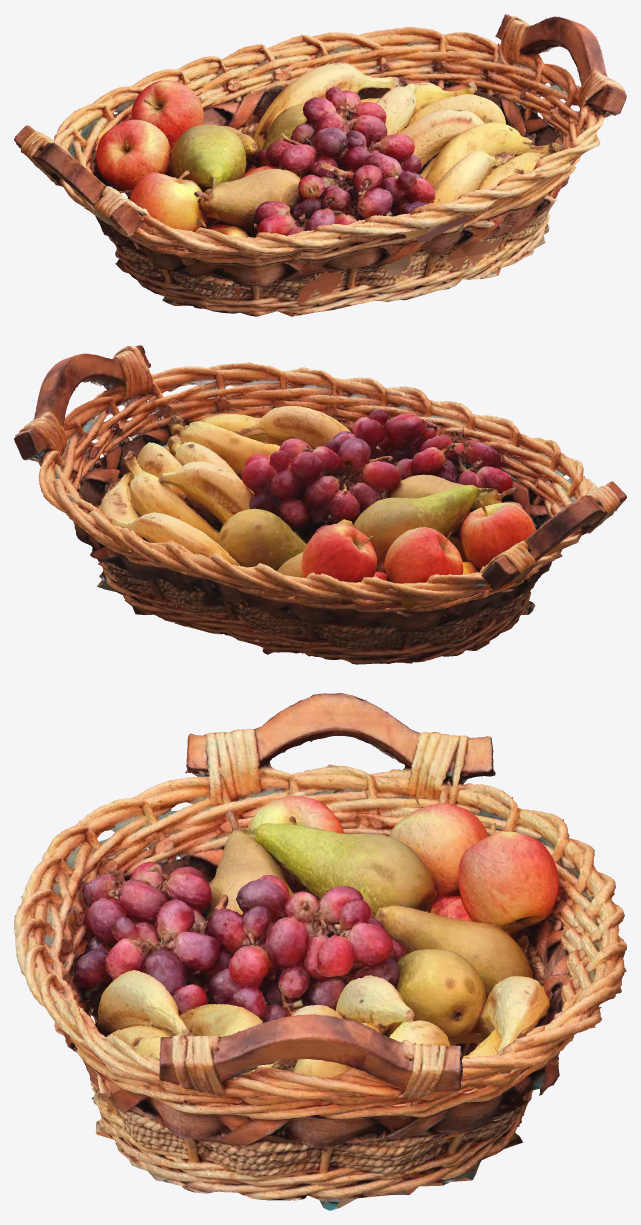
File: fruit_basket.glb
3 views of the same model, one above another, from view 1: azimuth 30°, elevation 25°; view 2: azimuth 150°, elevation 25°; view 3: azimuth 270°, elevation 25° (orthographic). The views are drawn at different scales.
Visible parts, largest first — view 1: model_tex_u1_v1_0; view 2: model_tex_u1_v1_0; view 3: model_tex_u1_v1_0.
Part boxes in pixels (x1,y1,x2,y2): model_tex_u1_v1_0: (14,14,626,316); model_tex_u1_v1_0: (14,345,626,664); model_tex_u1_v1_0: (14,693,626,1210).
Bounding box in the file's own units: 0.5532 × 0.1606 × 0.4013.
Materials: 1 (1 with a texture image).
